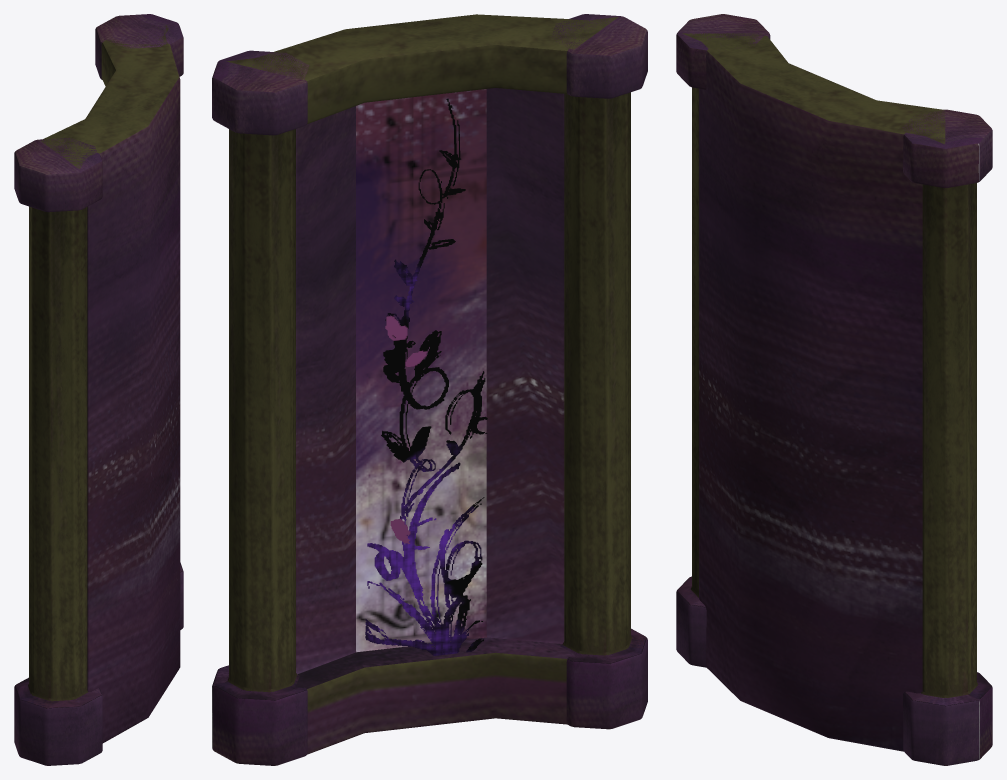
Rendered from MANOR_CORNER_005.obj.
3 renders of one model, left to right at view 1: azimuth 30°, elevation 25°; view 2: azimuth 150°, elevation 25°; view 3: azimuth 270°, elevation 25°, orthographic. The views are drawn at different scales.
Parts seen in each view (by area): view 1: MANOR_CORNER_005; view 2: MANOR_CORNER_005; view 3: MANOR_CORNER_005.
Part boxes in pixels (<box>): MANOR_CORNER_005: <box>14,14,183,765</box>; MANOR_CORNER_005: <box>212,14,647,765</box>; MANOR_CORNER_005: <box>676,14,992,765</box>.
Bounding box in the file's own units: 1.41 × 3 × 1.39.
